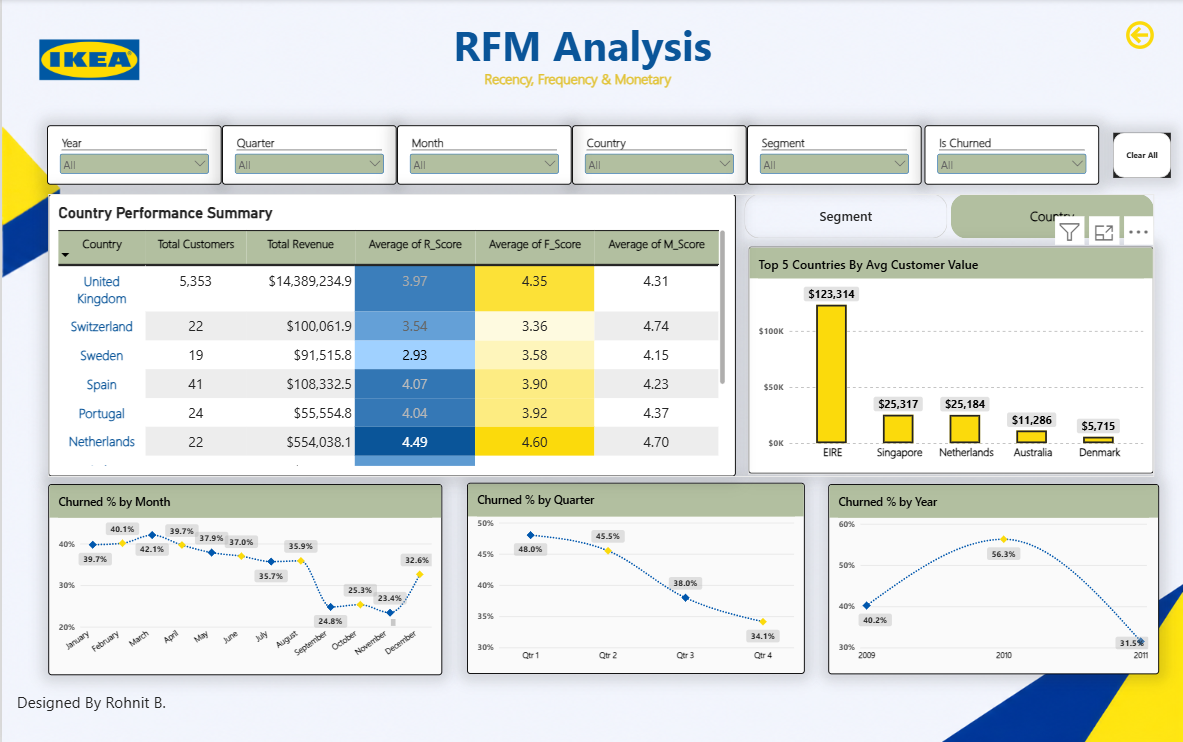

The page's visual inventory and layout, read from the dashboard file:
{"tool":"powerbi","page":{"name":"Page 3","canvas":[2050,1295],"ordinal":2},"visuals":[{"type":"slicer","fields":{"Values":["Sales_Data.invoice_date.Variation.Date Hierarchy.Year"]},"box":[78,220,303.3,103.3],"z":0},{"type":"columnChart","title":"Revenue Retention By Segment","fields":{"Category":["Sales_Data.segment"],"Y":["Sales_Data.Avg Customer Value"]},"box":[1294,428,704,394],"z":0,"group":"g2"},{"type":"lineChart","fields":{"Category":["Sales_Data.invoice_date.Variation.Date Hierarchy.Month"],"Y":["Sales_Data.Churned %"]},"box":[80,842,684,332],"z":0,"group":"g1"},{"type":"slicer","fields":{"Values":["Sales_Data.invoice_date.Variation.Date Hierarchy.Quarter"]},"box":[382,220,303,103],"z":1000},{"type":"tableEx","title":"Segment Performance Summary","fields":{"Values":["Sales_Data.segment","Sales_Data.Total Customers","Sales_Data.Total Revenue","Avg(Sales_Data.R_Score)","Avg(Sales_Data.F_Score)","Avg(Sales_Data.M_Score)"]},"box":[80,338,1194,490],"z":1000,"group":"g2"},{"type":"lineChart","fields":{"Category":["Sales_Data.invoice_date.Variation.Date Hierarchy.Quarter"],"Y":["Sales_Data.Churned %"]},"box":[806,840,586,332],"z":1000,"group":"g1"},{"type":"slicer","fields":{"Values":["Sales_Data.country"]},"box":[990,220,303,103],"z":2000},{"type":"lineChart","fields":{"Category":["Sales_Data.invoice_date.Variation.Date Hierarchy.Year"],"Y":["Sales_Data.Churned %"]},"box":[1434,842,574,330],"z":2000,"group":"g1"},{"type":"slicer","fields":{"Values":["Sales_Data.invoice_date.Variation.Date Hierarchy.Month"]},"box":[686,220,303,103],"z":3000},{"type":"slicer","fields":{"Values":["Sales_Data.segment"]},"box":[1294,220,303,103],"z":4000},{"type":"slicer","fields":{"Values":["Sales_Data.ischurned"]},"box":[1602,220,303,103],"z":5000},{"type":"actionButton","box":[1930,232,100,78],"z":6000},{"type":"image","box":[0,30,303,150],"z":7000},{"type":"actionButton","box":[1900,0,150,125],"z":8000},{"type":"bookmarkNavigator","box":[1290,338,710,77.5],"z":10000},{"type":"group","id":"g1","title":"Customer","box":[80,840,1928,334],"z":11000},{"type":"textbox","box":[92,1076,592,12],"z":12000},{"type":"textbox","box":[26,1202,277.5,42.5],"z":13000},{"type":"textbox","box":[782.5,30,717.5,182.5],"z":14000},{"type":"textbox","box":[838,122,684,150],"z":15000},{"type":"group","id":"g2","title":"Segment","box":[80,338,1918,490],"z":16000}]}

Visuals, with their boxes in screenshot pixels (x1, y1, x2, y2), scaled from the page's 2050x1295 canvas onto the 1183x742 screenshot:
slicer - Sales_Data.invoice_date.Variation.Date Hierarchy.Year: bbox(45, 126, 220, 185)
"Revenue Retention By Segment" columnChart: bbox(747, 245, 1153, 471)
lineChart - Sales_Data.invoice_date.Variation.Date Hierarchy.Month x Sales_Data.Churned %: bbox(46, 482, 441, 673)
slicer - Sales_Data.invoice_date.Variation.Date Hierarchy.Quarter: bbox(220, 126, 395, 185)
"Segment Performance Summary" tableEx: bbox(46, 194, 735, 474)
lineChart - Sales_Data.invoice_date.Variation.Date Hierarchy.Quarter x Sales_Data.Churned %: bbox(465, 481, 803, 672)
slicer - Sales_Data.country: bbox(571, 126, 746, 185)
lineChart - Sales_Data.invoice_date.Variation.Date Hierarchy.Year x Sales_Data.Churned %: bbox(828, 482, 1159, 672)
slicer - Sales_Data.invoice_date.Variation.Date Hierarchy.Month: bbox(396, 126, 571, 185)
slicer - Sales_Data.segment: bbox(747, 126, 922, 185)
slicer - Sales_Data.ischurned: bbox(924, 126, 1099, 185)
actionButton: bbox(1114, 133, 1171, 178)
image: bbox(0, 17, 175, 103)
actionButton: bbox(1096, 0, 1182, 72)
bookmarkNavigator: bbox(744, 194, 1154, 238)
"Customer" group: bbox(46, 481, 1159, 673)
textbox: bbox(53, 617, 395, 623)
textbox: bbox(15, 689, 175, 713)
textbox: bbox(452, 17, 866, 122)
textbox: bbox(484, 70, 878, 156)
"Segment" group: bbox(46, 194, 1153, 474)
